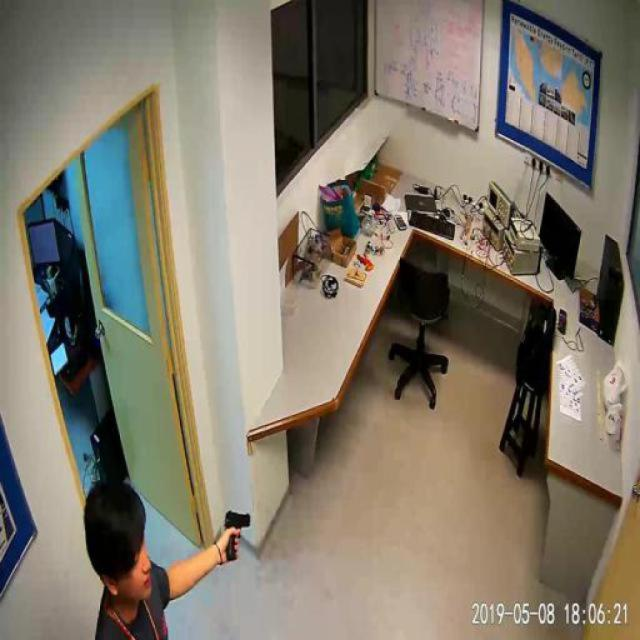pistol: (224, 509, 250, 560)
